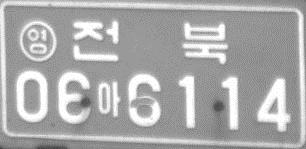0: (15, 70, 50, 123)
1: (213, 75, 250, 130), (172, 75, 208, 129)
4: (256, 78, 292, 133)
6: (57, 70, 92, 125), (127, 73, 162, 127)
아: (96, 79, 121, 118)
영: (18, 20, 57, 62)
전북_D: (72, 18, 228, 65)
